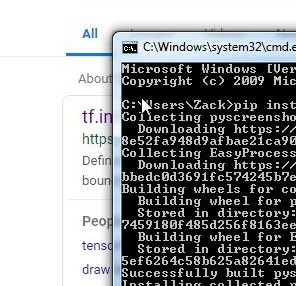cursor: (140, 96, 153, 116)
